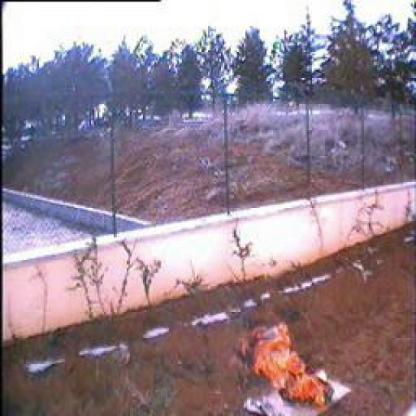fire: (241, 316, 337, 414)
